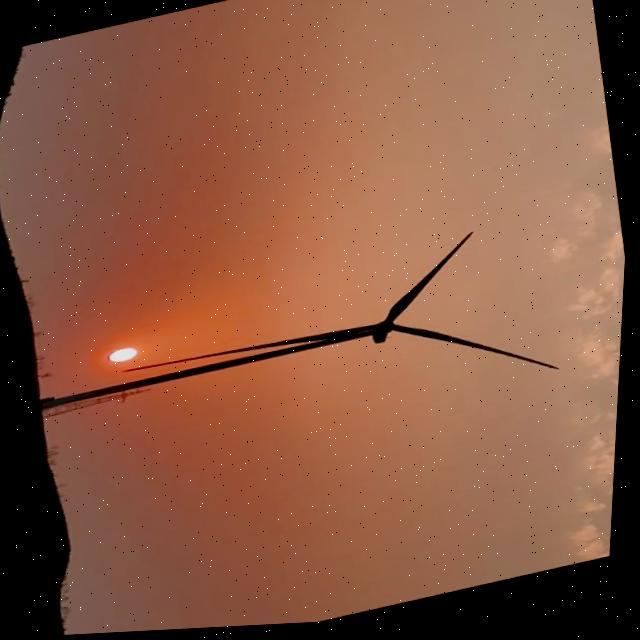solid-blade: (397, 329, 561, 375), (389, 238, 474, 326)
wind-turbine: (45, 237, 561, 411)
